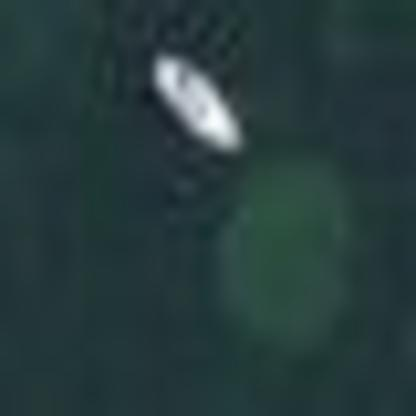ship: (143, 42, 258, 164)
